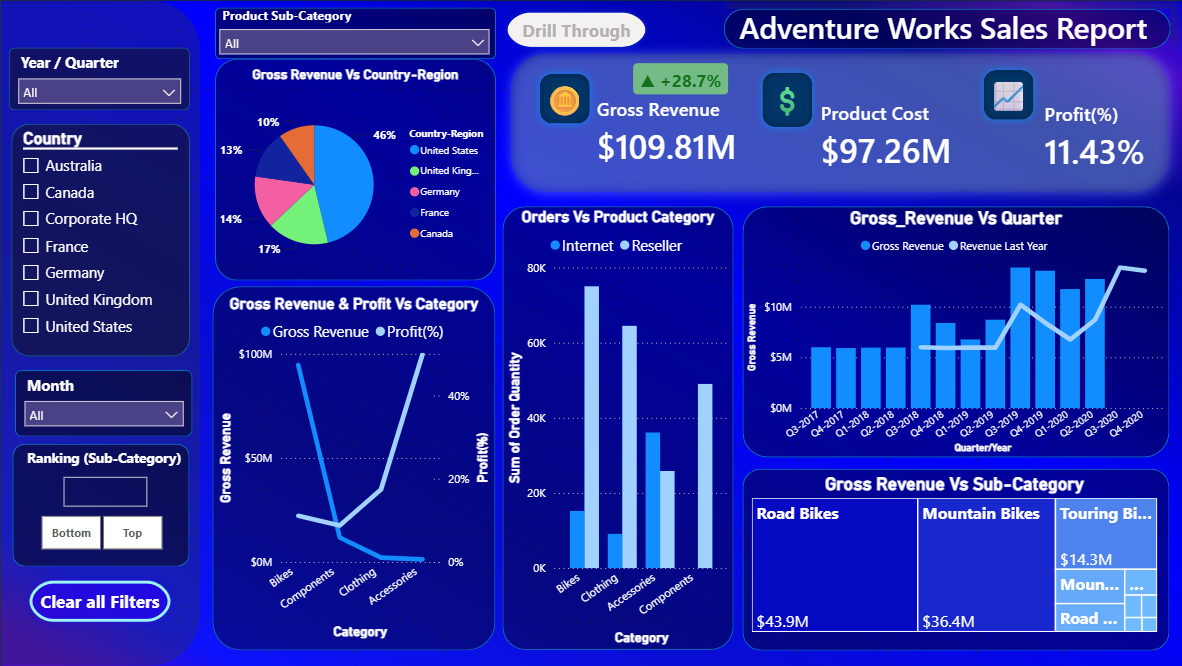

The dashboard page shown, as its layout file describes it:
{"tool":"powerbi","page":{"name":"Main Board","canvas":[1280,720],"ordinal":0},"visuals":[{"type":"shape","box":[10,52,196,68],"z":0,"group":"g1"},{"type":"shape","box":[1056.7,67.7,70,70],"z":0,"group":"g4"},{"type":"shape","box":[816.7,70.7,70,75],"z":0,"group":"g3"},{"type":"shape","box":[576.7,72.3,70,70],"z":0,"group":"g2"},{"type":"group","id":"g1","title":"Background","box":[0,0,1280,720],"z":1000},{"type":"cardVisual","fields":{"Data":["_Measure.Gross_Revenue"]},"box":[630,85.6,213.3,115],"z":1000,"group":"g2"},{"type":"cardVisual","fields":{"Data":["_Measure.Product_Cost"]},"box":[870.6,89,213.3,115],"z":1000,"group":"g3"},{"type":"cardVisual","fields":{"Data":["_Measure.Profit(%)"]},"box":[1113.7,90.7,163.3,114.4],"z":1000,"group":"g4"},{"type":"shape","box":[11.7,133.3,193.3,251.7],"z":1000,"group":"g1"},{"type":"group","id":"g2","title":"Gross Revenue","box":[576.7,72.3,266.7,128.3],"z":2000},{"type":"shape","box":[803.3,506.7,461.7,196.7],"z":2000,"group":"g1"},{"type":"group","id":"g3","title":"Product_Cost","box":[816.7,70.7,266.7,133.3],"z":3000},{"type":"shape","box":[803.3,223.3,461.7,271.7],"z":3000,"group":"g1"},{"type":"group","id":"g4","title":"Product_Cost","box":[1056.7,67.7,220.4,137.4],"z":4000},{"type":"shape","box":[543.3,223.3,250,480],"z":4000,"group":"g1"},{"type":"lineClusteredColumnComboChart","title":"Gross_Revenue Vs Quarter","fields":{"Y":["_Measure.Gross_Revenue"],"Y2":["_Measure.Revenue_Last_Year"],"Category":["Date_Table.Quarter+Year"]},"box":[803,224,462,271],"z":5000},{"type":"shape","box":[230,310,306,394],"z":5000,"group":"g1"},{"type":"slicer","fields":{"Values":["Date_Table.Year","Date_Table.Quarter"]},"box":[10,52,196,62],"z":6000},{"type":"shape","box":[232,64,304,240],"z":6000,"group":"g1"},{"type":"shape","box":[536.7,41.7,743.3,181.7],"z":7000,"group":"g1"},{"type":"cardVisual","fields":{"Data":["_Measure.YoY_Revenue_Indicator"]},"box":[667.9,51.4,137.9,69],"z":7000},{"type":"shape","box":[0,0,216.7,720],"z":8000,"group":"g1"},{"type":"treemap","title":"Gross Revenue Vs Sub-Category","fields":{"Group":["Product_Dim.Subcategory"],"Values":["_Measure.Gross_Revenue"]},"box":[808,512,448,176],"z":8000},{"type":"shape","box":[232,8,304,56],"z":8125,"group":"g1"},{"type":"shape","box":[16,400,192,72],"z":8250,"group":"g1"},{"type":"shape","box":[782.2,8.9,483.3,43.3],"z":8500,"group":"g1"},{"type":"lineChart","title":"Gross Revenue & Profit Vs Category","fields":{"Y":["_Measure.Gross_Revenue"],"Category":["Product_Dim.Category"],"Y2":["_Measure.Profit(%)"]},"box":[231.8,318.2,303.6,378.2],"z":9000},{"type":"shape","box":[13.1,479.9,191.4,132.9],"z":9000,"group":"g1"},{"type":"clusteredColumnChart","title":"Orders Vs Product Category","fields":{"Category":["Product_Dim.Category"],"Series":["Sales_Order_Dim.Channel"],"Y":["Sum(Sales_Fact.Order Quantity)"]},"box":[543,225,250,478],"z":10000},{"type":"slicer","fields":{"Values":["Sales-Territory_Dim.Country"]},"box":[11.7,133.3,193.3,251.7],"z":11000},{"type":"pieChart","title":"Gross Revenue Vs Country-Region","fields":{"Category":["Customer_Dim.Country-Region"],"Y":["_Measure.Gross_Revenue"]},"box":[232,72,304,240],"z":12000},{"type":"textbox","box":[793.3,3.3,453.3,85.6],"z":13000},{"type":"slicer","fields":{"Values":["Top_Bottom_Filter.Column1"]},"box":[24.5,555.7,170,40],"z":14000},{"type":"slicer","fields":{"Values":["Filter Count.Filter Count"]},"box":[60.2,511.4,100,64.3],"z":15000},{"type":"textbox","box":[24.5,479.9,227.1,40],"z":16000},{"type":"actionButton","box":[23,619.3,170.4,62.2],"z":17000},{"type":"slicer","fields":{"Values":["Date_Table.Month"]},"box":[16,400,192,64],"z":18000},{"type":"slicer","fields":{"Values":["Product_Dim.Subcategory"]},"box":[232,7,302,55],"z":19000},{"type":"actionButton","box":[544,8,160,48],"z":19500}]}

Visuals, with their boxes in screenshot pixels (x1, y1, x2, y2), scaled from the page's 1280x720 canvas onto the 1182x666 screenshot:
shape: 9/48/190/111
shape: 976/63/1040/127
shape: 754/65/819/135
shape: 533/67/597/132
"Background" group: 0/0/1181/665
cardVisual - _Measure.Gross_Revenue: 582/79/779/186
cardVisual - _Measure.Product_Cost: 804/82/1001/189
cardVisual - _Measure.Profit(%): 1028/84/1179/190
shape: 11/123/189/356
"Gross Revenue" group: 533/67/779/186
shape: 742/469/1168/651
"Product_Cost" group: 754/65/1000/189
shape: 742/207/1168/458
"Product_Cost" group: 976/63/1179/190
shape: 502/207/733/651
"Gross_Revenue Vs Quarter" lineClusteredColumnComboChart: 742/207/1168/458
shape: 212/287/495/651
slicer - Date_Table.Year x Date_Table.Quarter: 9/48/190/105
shape: 214/59/495/281
shape: 496/39/1181/207
cardVisual - _Measure.YoY_Revenue_Indicator: 617/48/744/111
shape: 0/0/200/665
"Gross Revenue Vs Sub-Category" treemap: 746/474/1160/636
shape: 214/7/495/59
shape: 15/370/192/437
shape: 722/8/1169/48
"Gross Revenue & Profit Vs Category" lineChart: 214/294/494/644
shape: 12/444/189/567
"Orders Vs Product Category" clusteredColumnChart: 501/208/732/650
slicer - Sales-Territory_Dim.Country: 11/123/189/356
"Gross Revenue Vs Country-Region" pieChart: 214/67/495/289
textbox: 733/3/1151/82
slicer - Top_Bottom_Filter.Column1: 23/514/180/551
slicer - Filter Count.Filter Count: 56/473/148/533
textbox: 23/444/232/481
actionButton: 21/573/179/630
slicer - Date_Table.Month: 15/370/192/429
slicer - Product_Dim.Subcategory: 214/6/493/57
actionButton: 502/7/650/52
